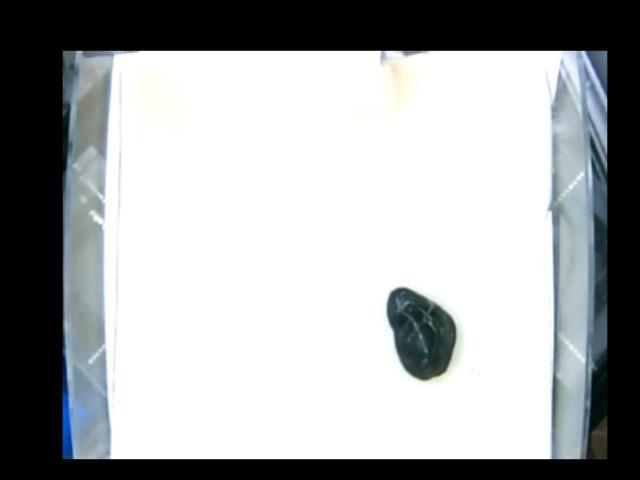Pebble: (386, 284, 457, 380)
